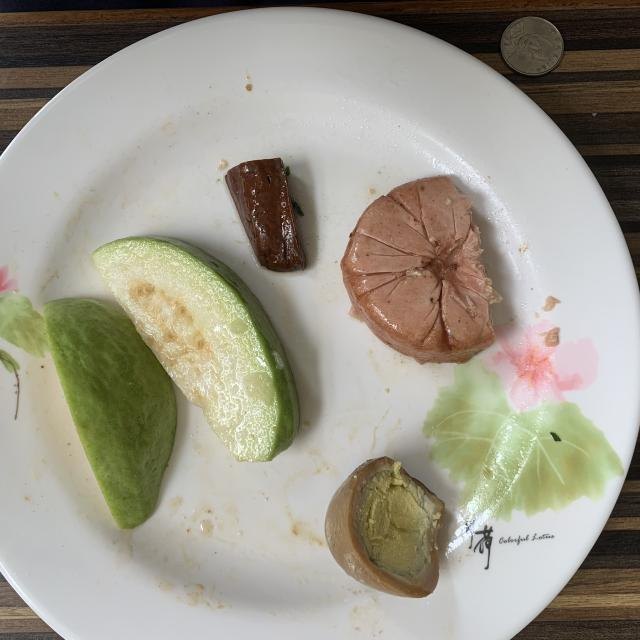Spam: (341, 176, 501, 362)
coin: (501, 16, 564, 76)
firm tofu: (225, 158, 306, 271)
guava -sliced-: (44, 238, 299, 529)
soy egg: (325, 456, 445, 598)
